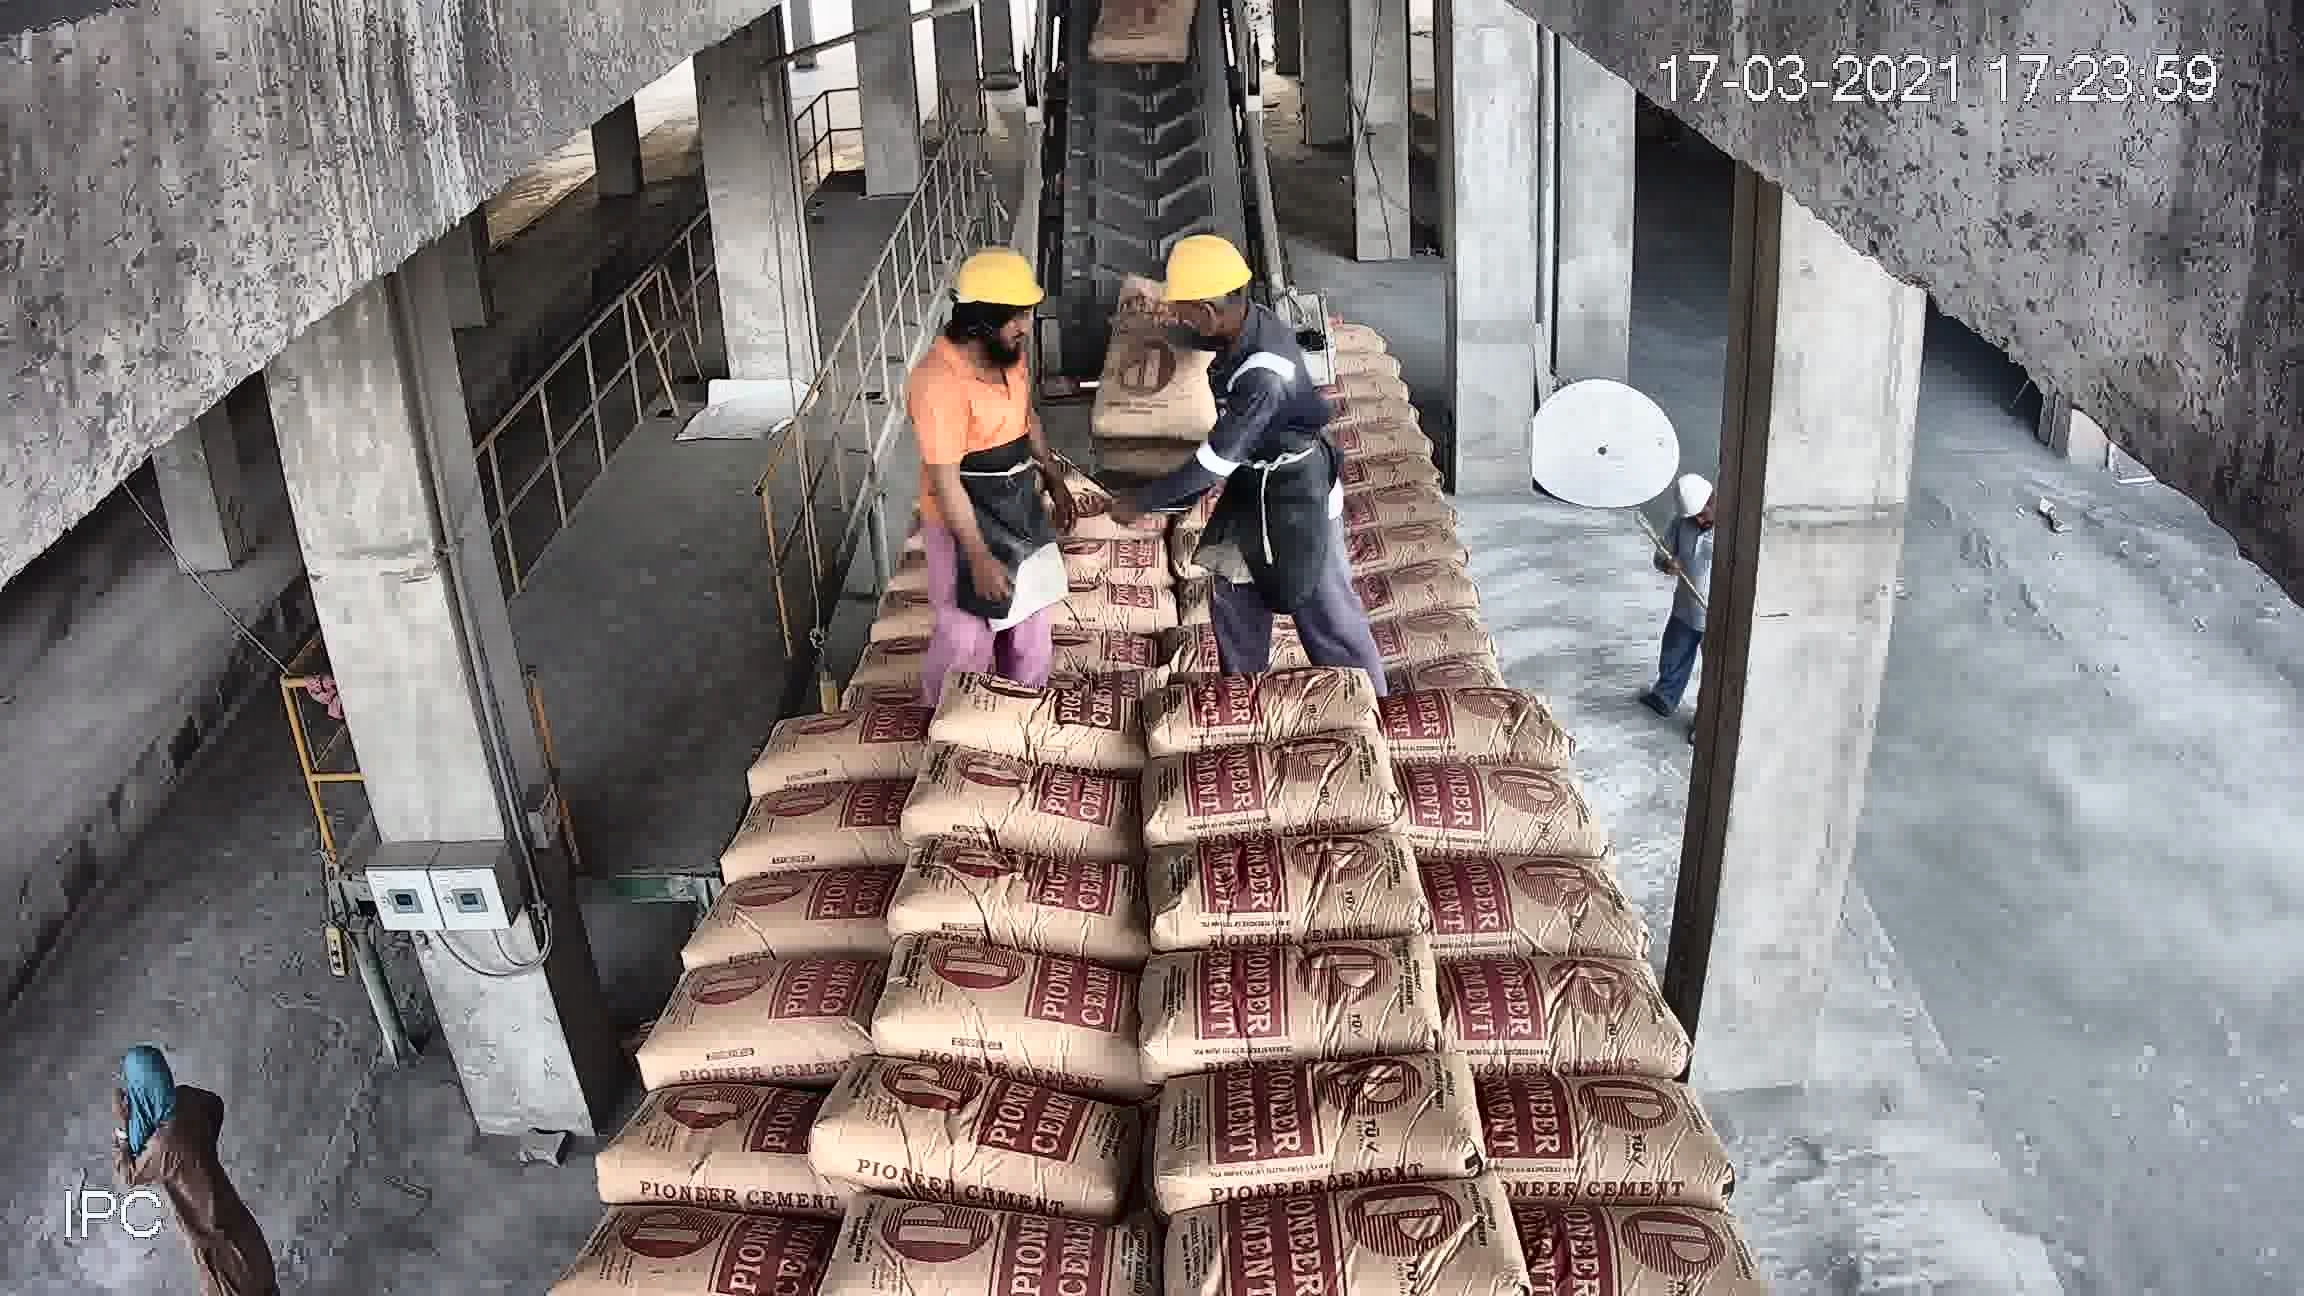bag: (1093, 54, 1207, 152)
bag_h: (1112, 1052, 1510, 1193), (821, 1070, 1120, 1230), (1133, 807, 1454, 943), (1169, 1176, 1524, 1296), (1103, 956, 1448, 1073), (866, 921, 1128, 1071), (1124, 720, 1419, 839), (888, 828, 1193, 938), (623, 961, 858, 1101), (897, 744, 1166, 855), (1467, 1078, 1711, 1193), (1489, 1196, 1760, 1296), (1442, 957, 1669, 1070), (829, 1225, 1169, 1296), (668, 866, 872, 981), (1165, 574, 1378, 684), (592, 1079, 786, 1196), (1155, 657, 1400, 745), (704, 767, 894, 881), (733, 699, 953, 790), (1416, 848, 1635, 937), (1143, 527, 1359, 608), (927, 612, 1166, 684), (1163, 473, 1351, 563), (780, 627, 970, 715), (543, 1218, 760, 1296), (980, 541, 1149, 635), (1405, 680, 1598, 760), (949, 671, 1147, 745), (1404, 774, 1622, 840), (810, 521, 976, 598), (801, 571, 972, 646), (1396, 619, 1563, 684), (972, 502, 1147, 563), (837, 487, 987, 557), (1370, 570, 1524, 625), (1310, 446, 1451, 503), (1353, 506, 1483, 568), (1301, 423, 1443, 472), (1052, 446, 1157, 502), (1298, 362, 1412, 411), (1040, 427, 1158, 468), (1063, 394, 1161, 441), (1309, 394, 1412, 438), (1307, 342, 1396, 388)
belt: (1032, 11, 1275, 305)
